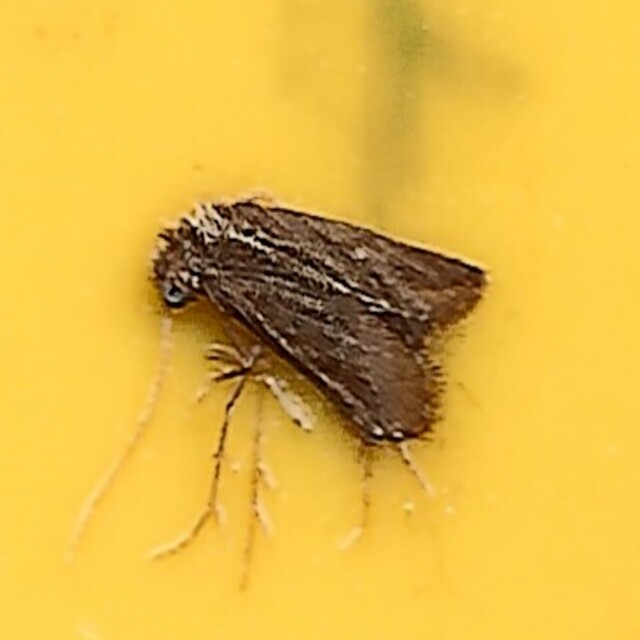Trichoptera: (143, 188, 497, 452)
